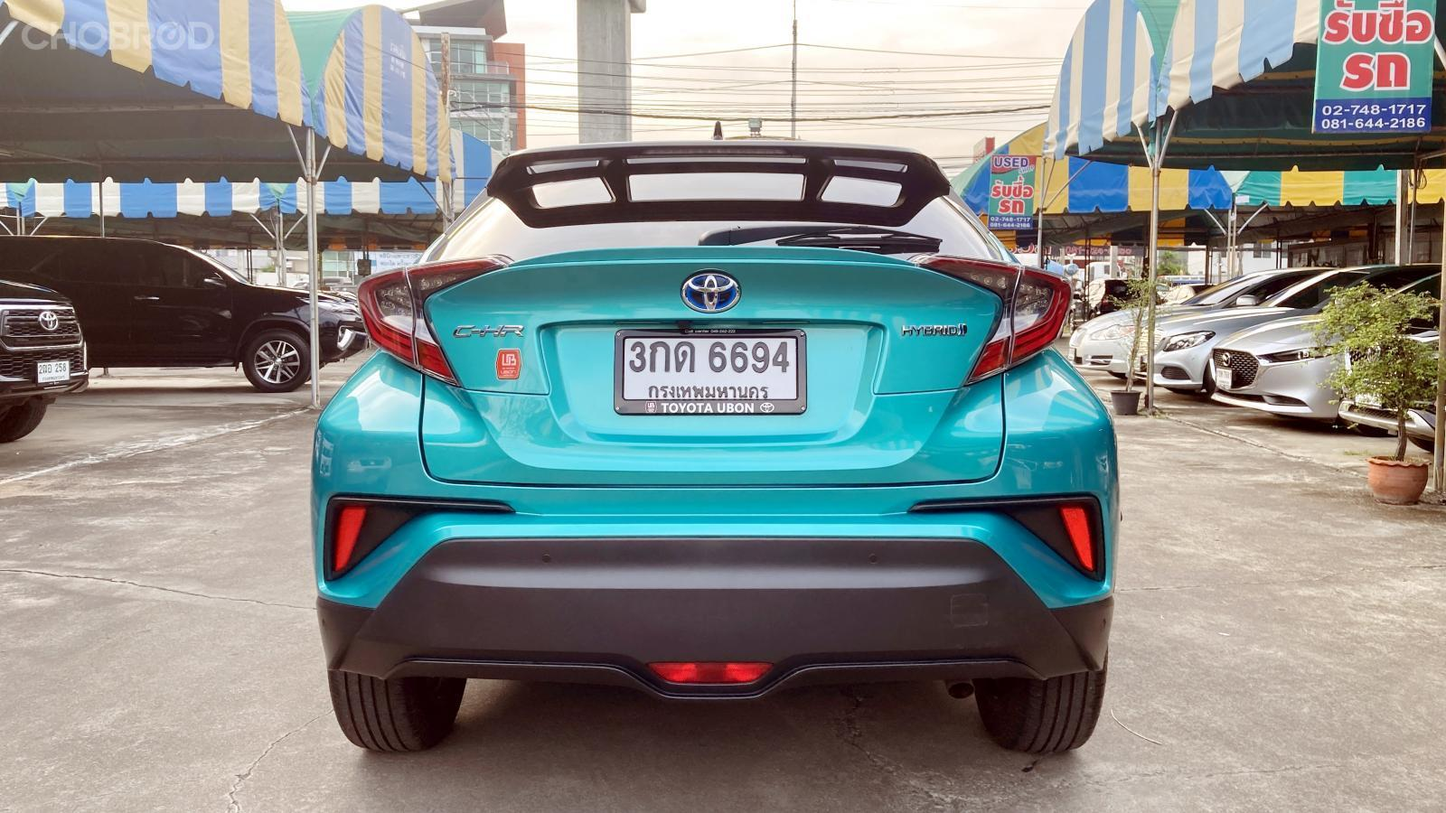license-plate: (610, 321, 813, 416), (36, 357, 73, 388), (1215, 362, 1233, 394)
